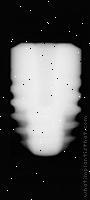DENTSPLY: (10, 43, 82, 158)
